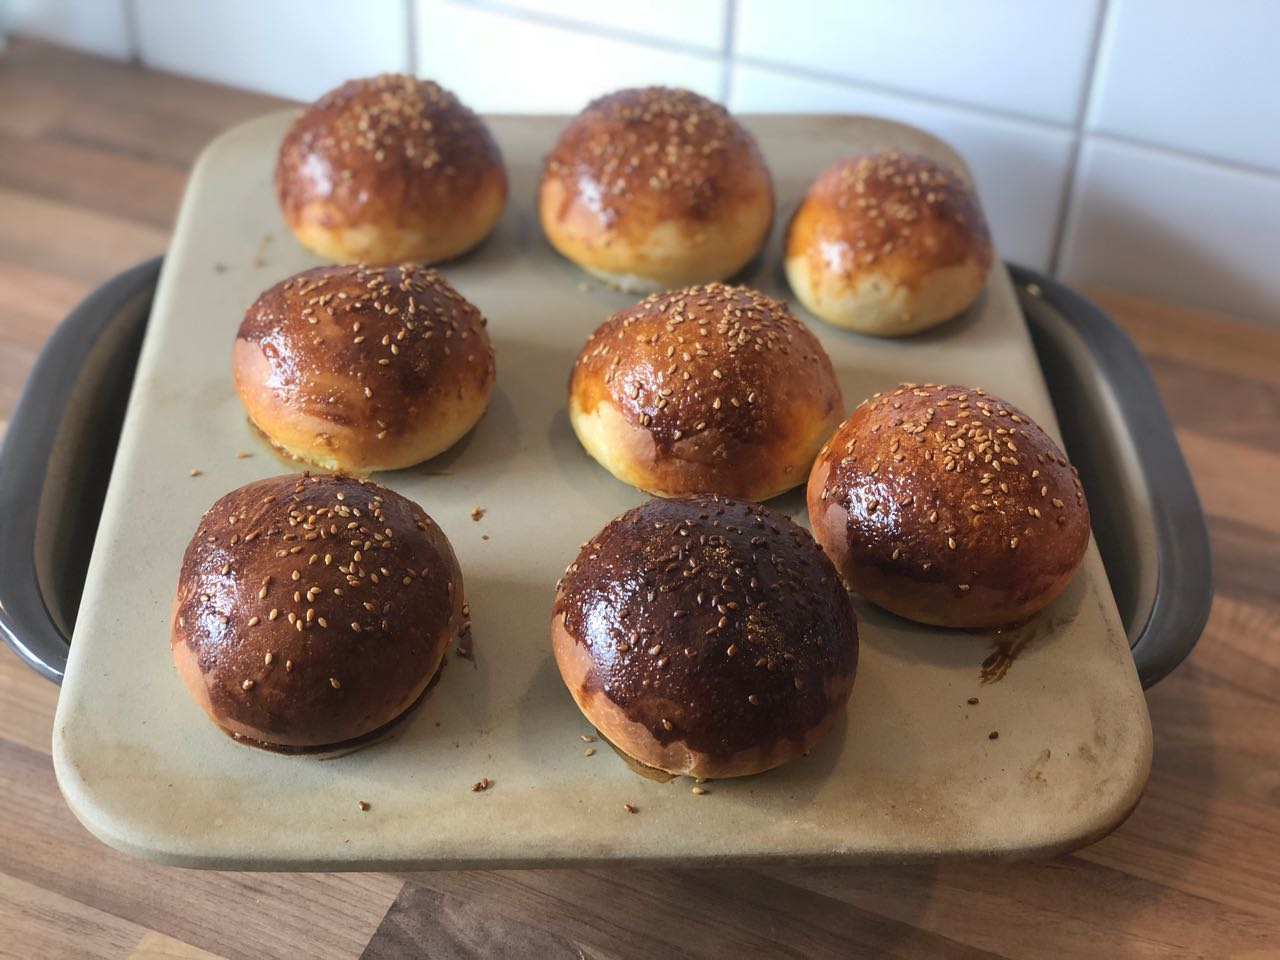hamburger_buns: (523, 482, 873, 796), (161, 471, 491, 761), (546, 283, 902, 520), (822, 353, 1095, 641), (224, 58, 541, 289), (227, 240, 510, 496), (544, 65, 794, 309), (773, 127, 998, 354)
